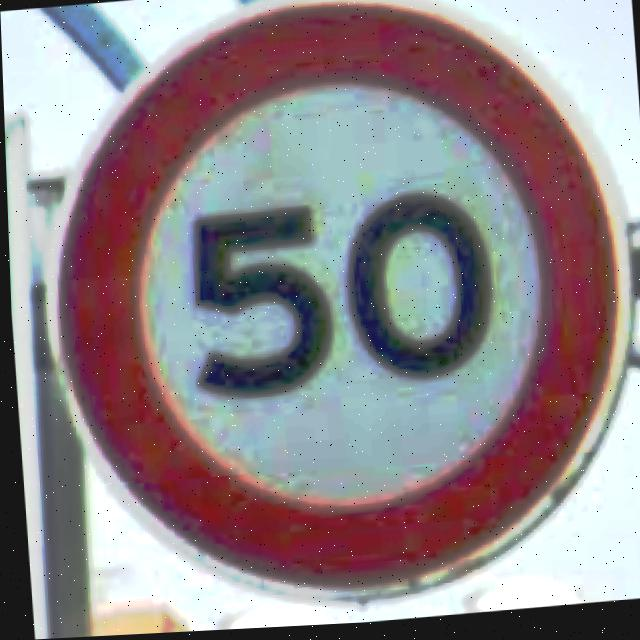max50: (21, 0, 640, 627)
